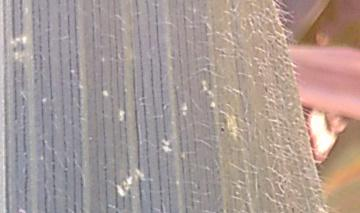tarspot: (218, 124, 227, 136)
